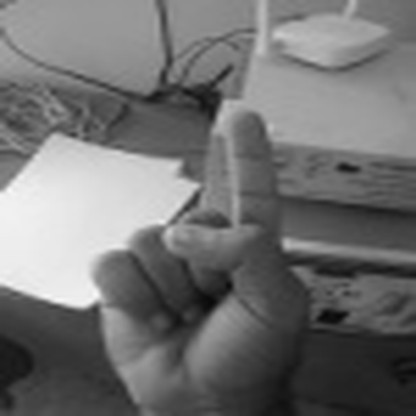d: (85, 100, 297, 416)
